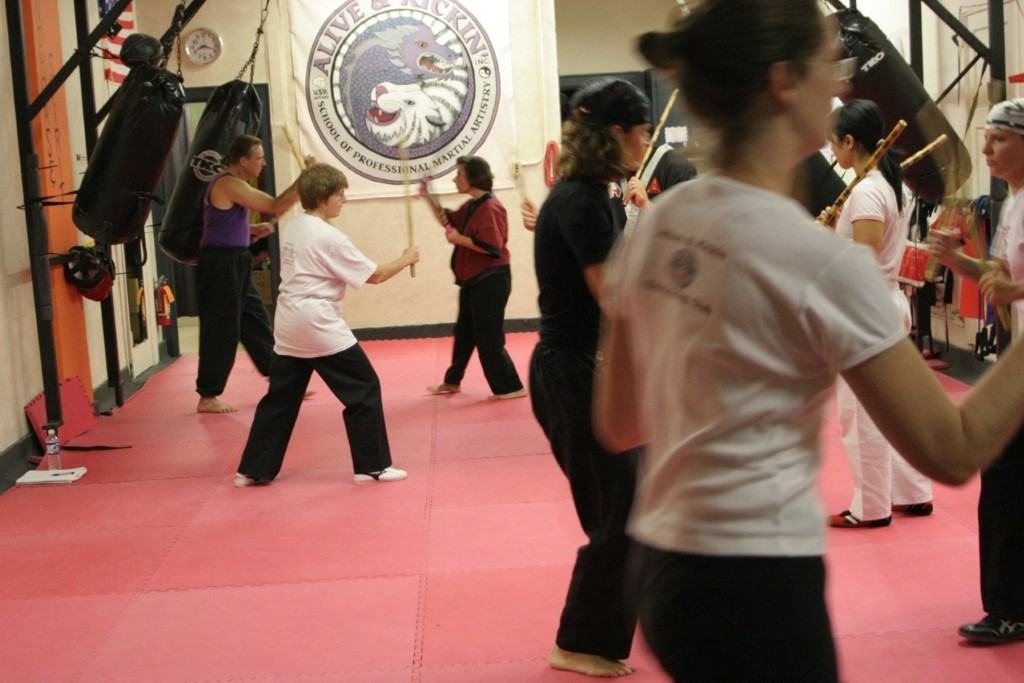baston_e: (820, 129, 899, 221), (965, 224, 1011, 323), (632, 93, 678, 174), (927, 194, 956, 270), (399, 150, 414, 272), (900, 139, 942, 162), (428, 188, 452, 228), (282, 128, 305, 168)
baston_v: (1002, 320, 1015, 334), (923, 272, 937, 284), (896, 116, 908, 129), (938, 131, 951, 143), (406, 269, 419, 280), (279, 121, 288, 130)
